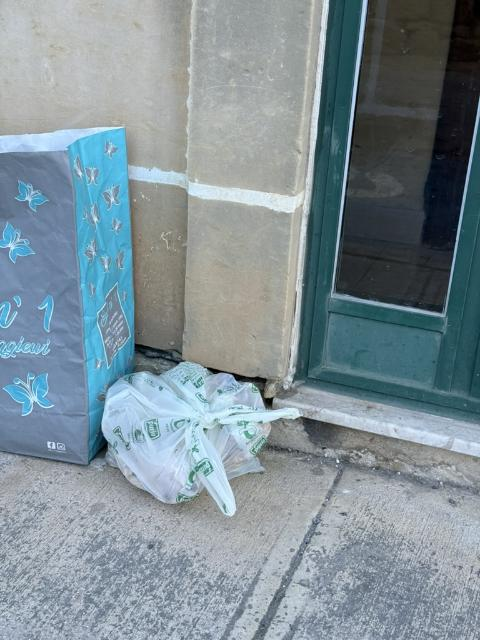Organic -White-: (101, 362, 299, 516)
Other: (0, 128, 134, 464)
